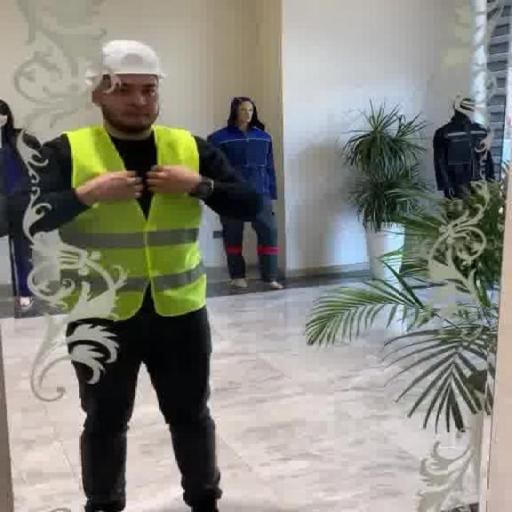Helmet: (84, 38, 164, 81)
